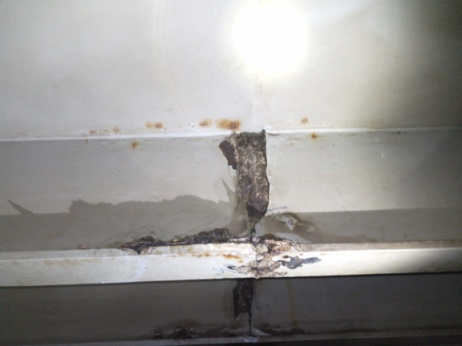corrosion: (230, 219, 325, 284), (218, 133, 282, 217), (110, 213, 232, 250), (223, 284, 267, 328), (161, 321, 245, 337), (194, 111, 242, 135)
